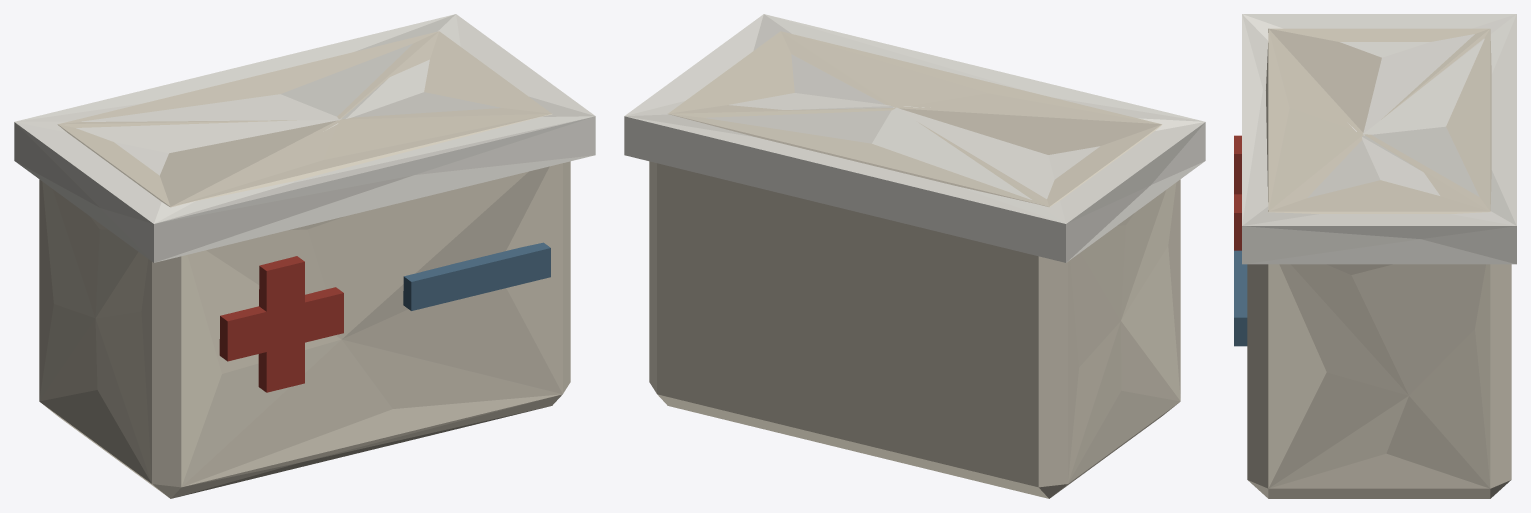
Rendered from bandage_sterilnyy_idle.glb.
3 views of the same model, side by side, from view 1: azimuth 30°, elevation 25°; view 2: azimuth 150°, elevation 25°; view 3: azimuth 270°, elevation 25° (orthographic).
Visible parts, largest first — view 1: bandage_sterilnyy_idle; view 2: bandage_sterilnyy_idle; view 3: bandage_sterilnyy_idle.
Part boxes in pixels (box(x1,y1,x2,y2)): bandage_sterilnyy_idle: box(14, 14, 595, 498); bandage_sterilnyy_idle: box(624, 14, 1205, 498); bandage_sterilnyy_idle: box(1234, 14, 1516, 498).
Size of the model in its own units: 0.095 by 0.06 by 0.0535.
1 material, 1 textured.
